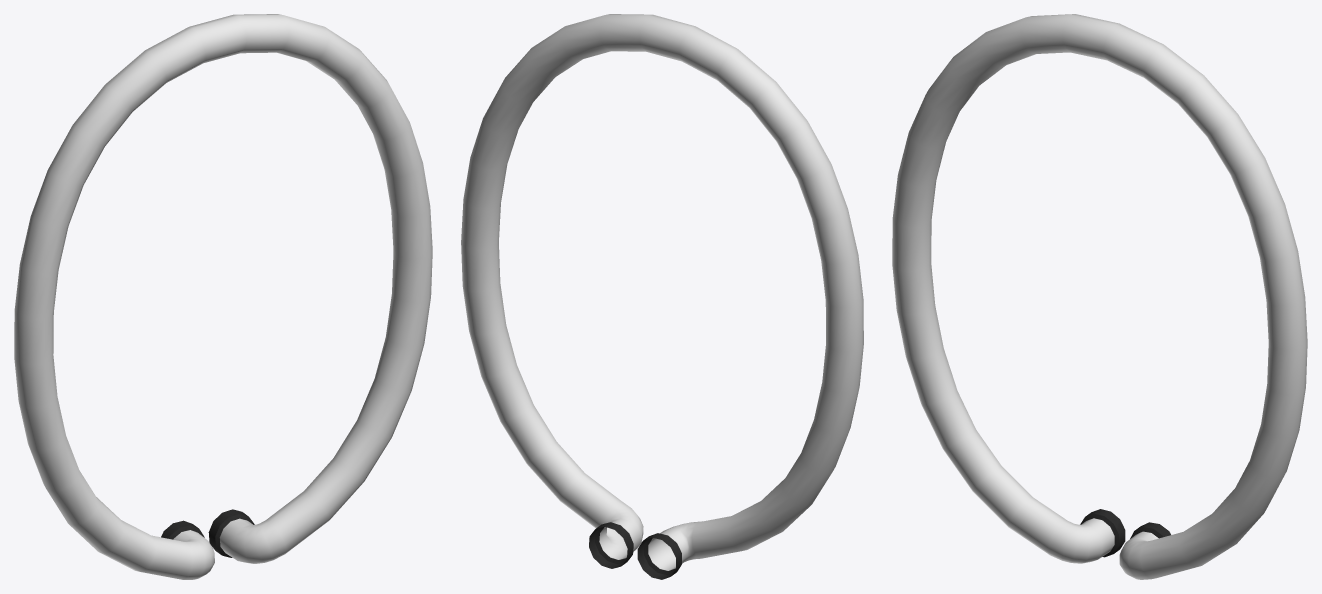
Rendered from LettersNeon01_0.FBX.
The picture shows the model from 3 angles, left to right: view 1: azimuth 30°, elevation 25°; view 2: azimuth 150°, elevation 25°; view 3: azimuth 330°, elevation 25°; orthographic projection. The views are drawn at different scales.
Parts seen in each view (by area): view 1: LettersNeon01_0; view 2: LettersNeon01_0; view 3: LettersNeon01_0.
Part boxes in pixels (x1,y1,x2,y2): LettersNeon01_0: [14, 14, 432, 579]; LettersNeon01_0: [461, 14, 863, 579]; LettersNeon01_0: [892, 14, 1307, 579].
Size of what is drawn, in the model's own units: 0.3653 by 0.4722 by 0.054.
